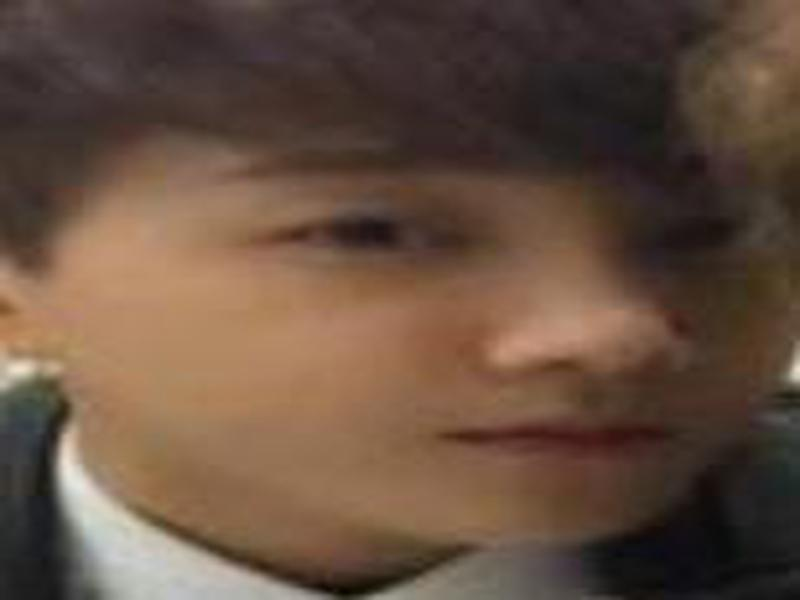without_mask: (19, 89, 800, 546)
